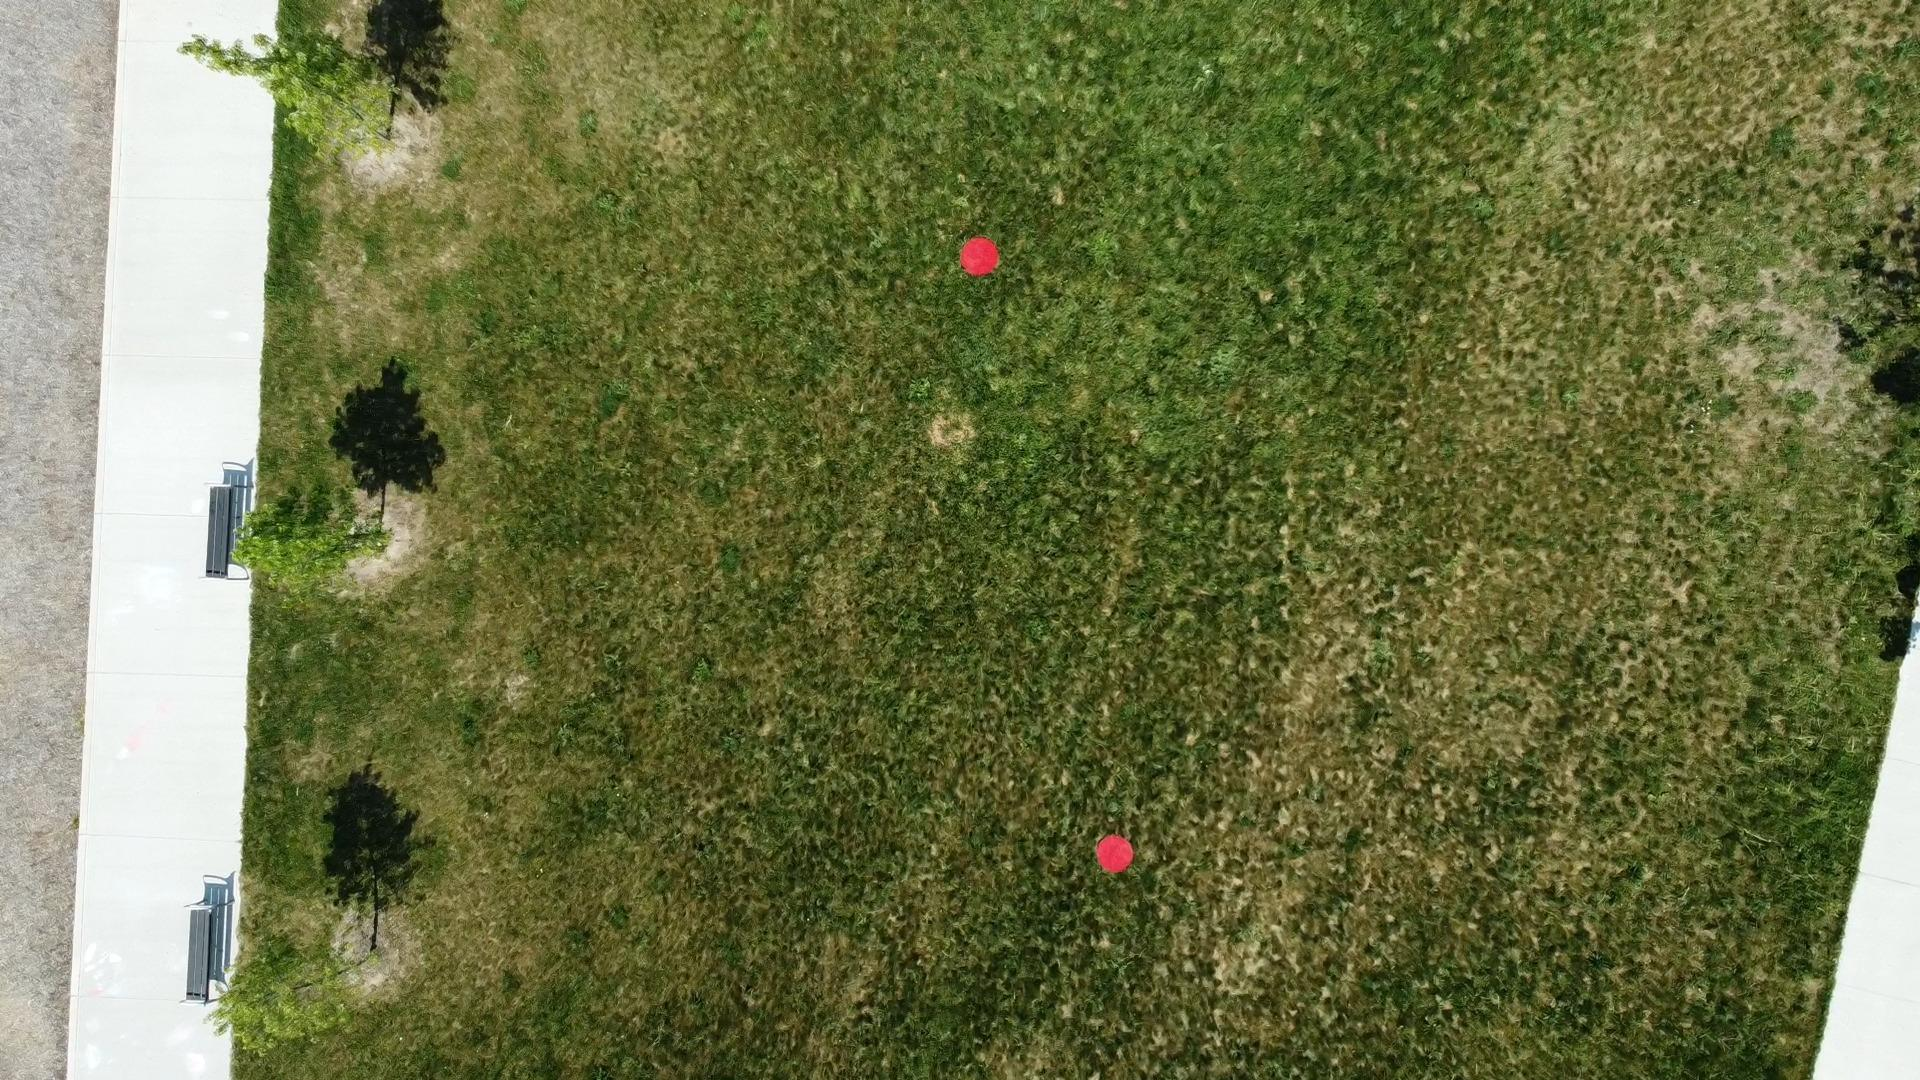Red: (957, 233, 1002, 278), (1095, 832, 1137, 874)
